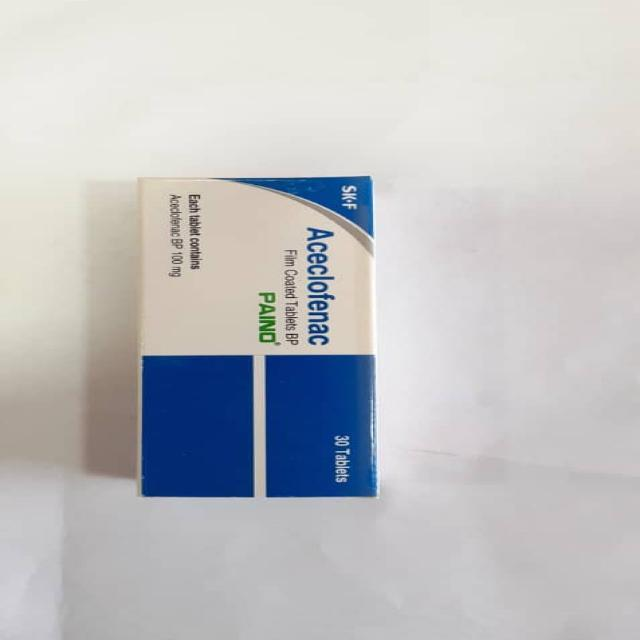drug-name: (306, 222, 338, 346)
